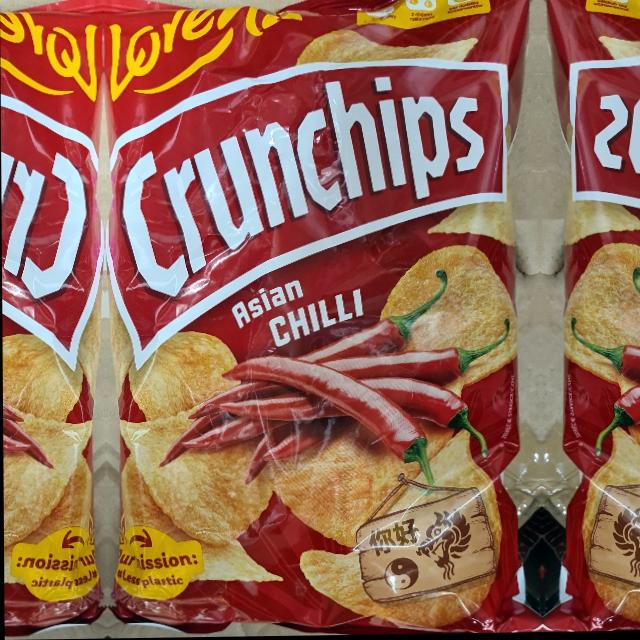crunchips: (105, 61, 510, 372), (2, 95, 104, 373)
